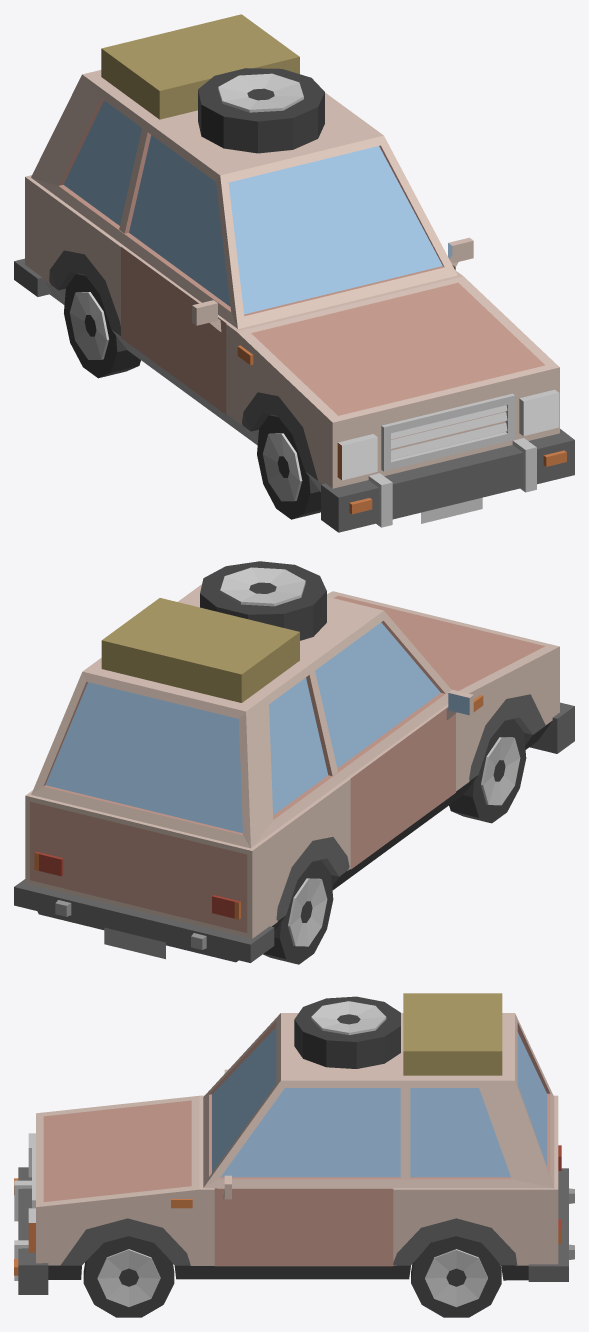
Rendered from transport_old_008.fbx.
3 views of the same model, one above another, from view 1: azimuth 30°, elevation 25°; view 2: azimuth 150°, elevation 25°; view 3: azimuth 270°, elevation 25° (orthographic). The views are drawn at different scales.
Visible parts, largest first — view 1: transport_old_008; view 2: transport_old_008; view 3: transport_old_008.
Part boxes in pixels (left/top/right/bottom): transport_old_008: left=14, top=14, right=574, bottom=532; transport_old_008: left=14, top=561, right=574, bottom=964; transport_old_008: left=14, top=993, right=574, bottom=1317.
Size of the model in its own units: 148 by 153 by 305.
